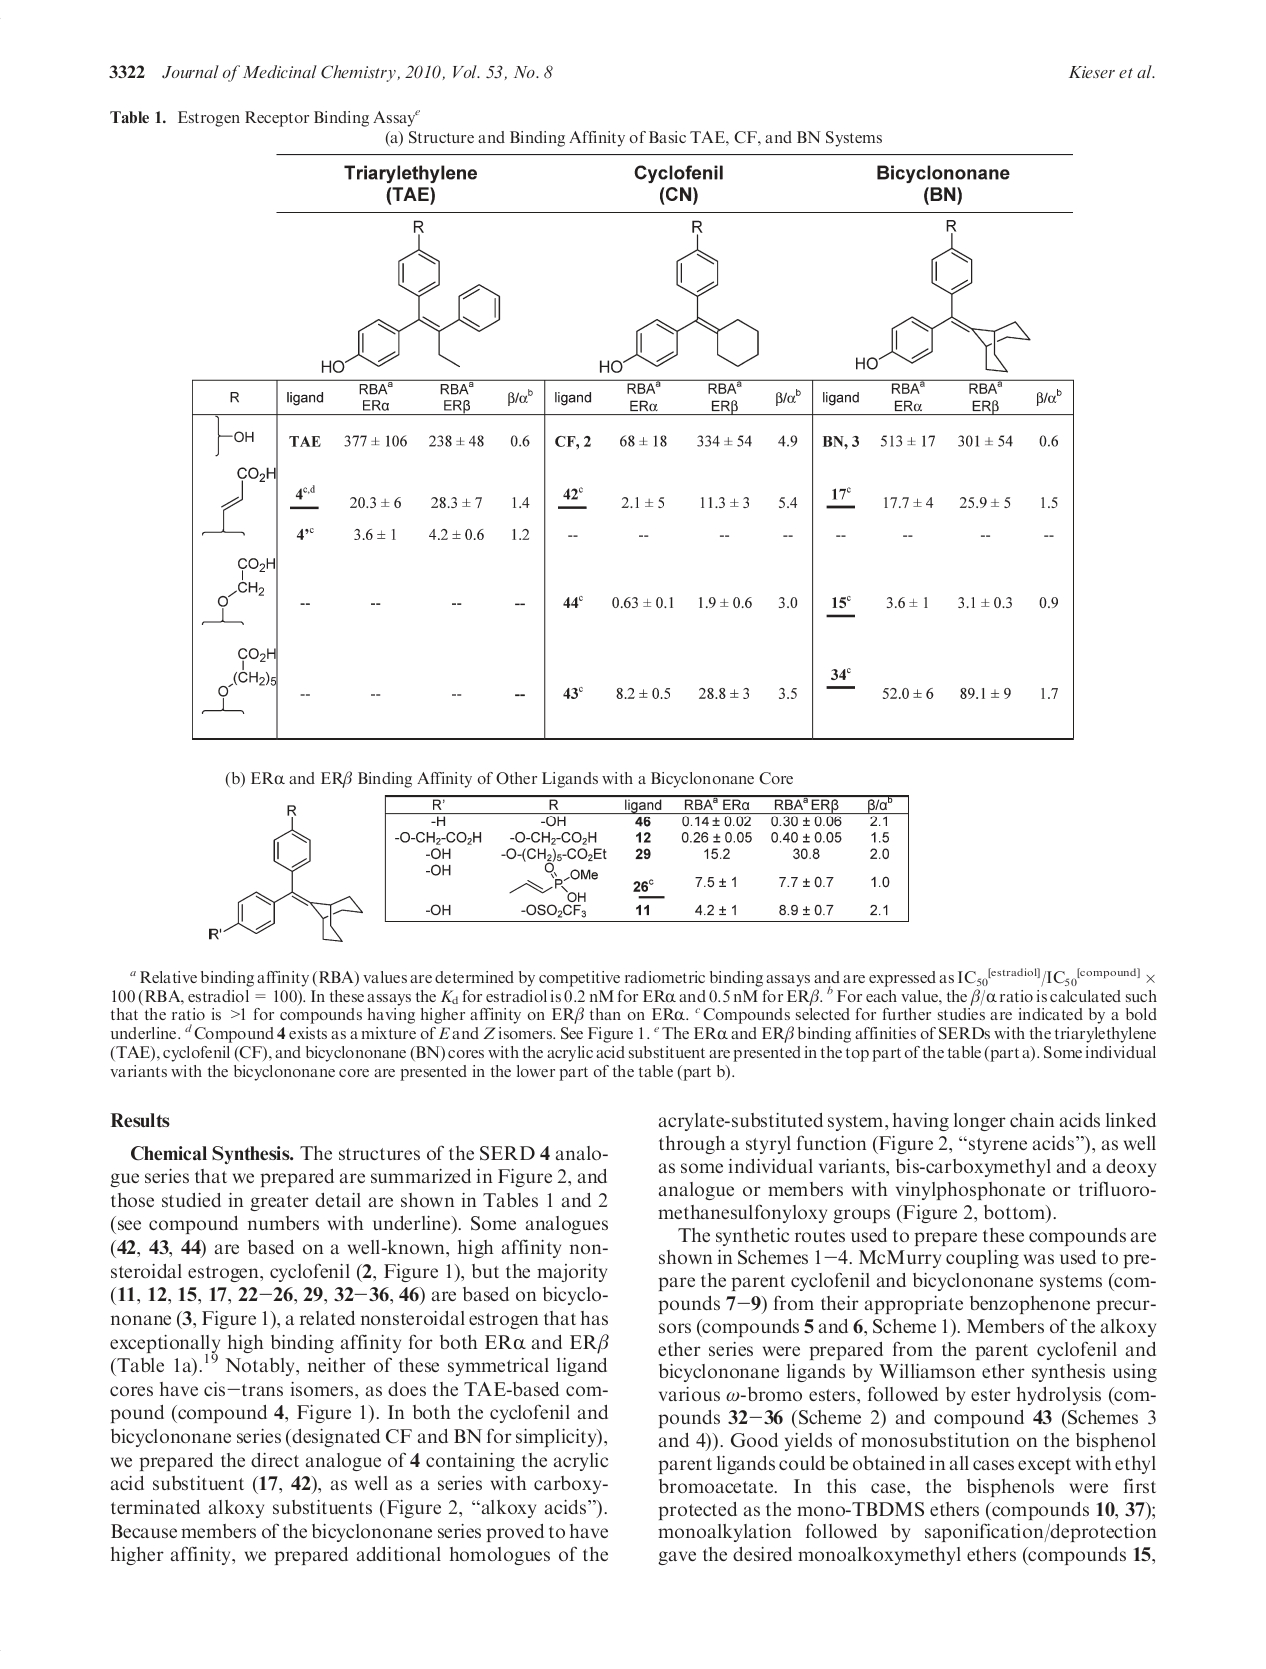exist_molecular: (316, 214, 513, 379), (851, 215, 1043, 375), (593, 218, 762, 372), (199, 805, 367, 950), (195, 461, 279, 539), (194, 556, 277, 626), (199, 645, 278, 718), (503, 860, 604, 902), (203, 416, 257, 455)
